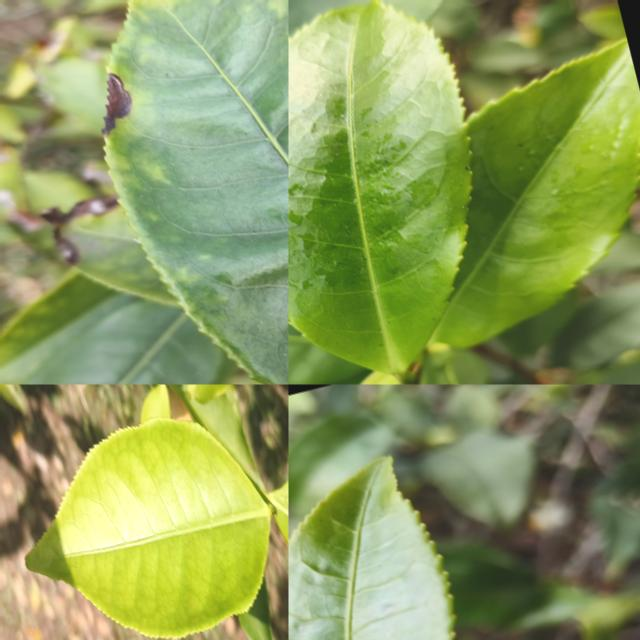Leaf: (103, 0, 288, 384), (288, 1, 470, 372), (434, 40, 640, 345), (25, 417, 269, 636), (288, 457, 452, 640), (23, 307, 225, 384), (0, 270, 133, 384), (42, 195, 175, 304), (422, 429, 534, 524), (288, 413, 393, 513), (168, 384, 262, 488), (551, 280, 640, 368), (37, 56, 107, 132), (471, 39, 542, 73), (237, 577, 272, 640), (422, 352, 459, 384), (140, 384, 170, 422), (0, 384, 27, 411), (81, 0, 127, 12)
